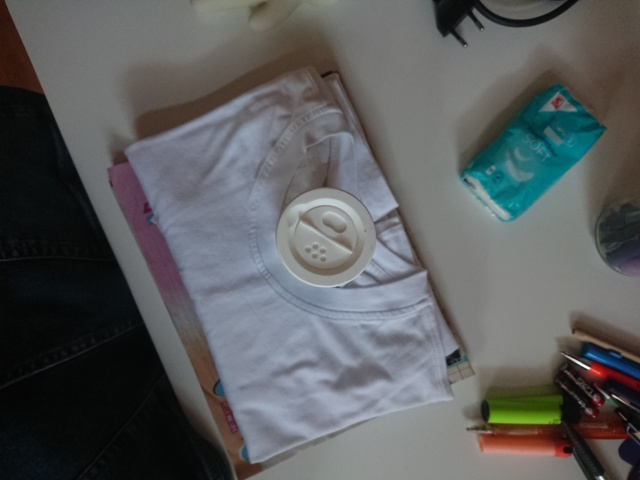Solana Pag Fine Sea Salt 250g: (273, 185, 379, 290)
